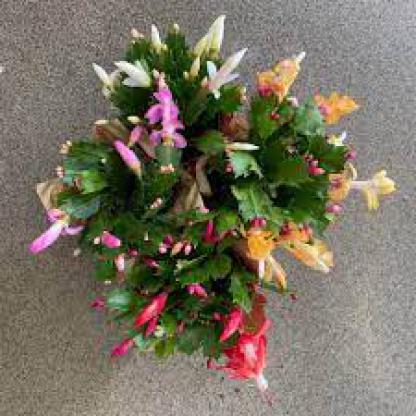Aglonema: (17, 6, 381, 124)
